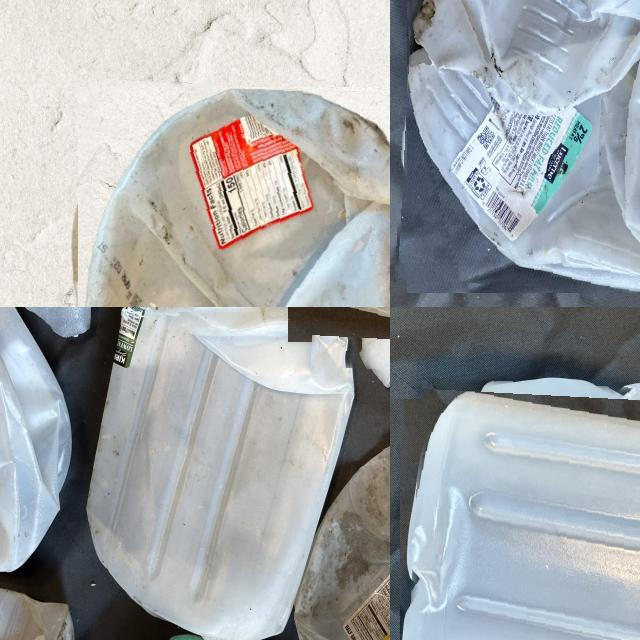milk-jug: (85, 307, 353, 640), (73, 81, 390, 307), (398, 0, 640, 295), (406, 382, 640, 640), (289, 410, 390, 640), (0, 307, 79, 563)
